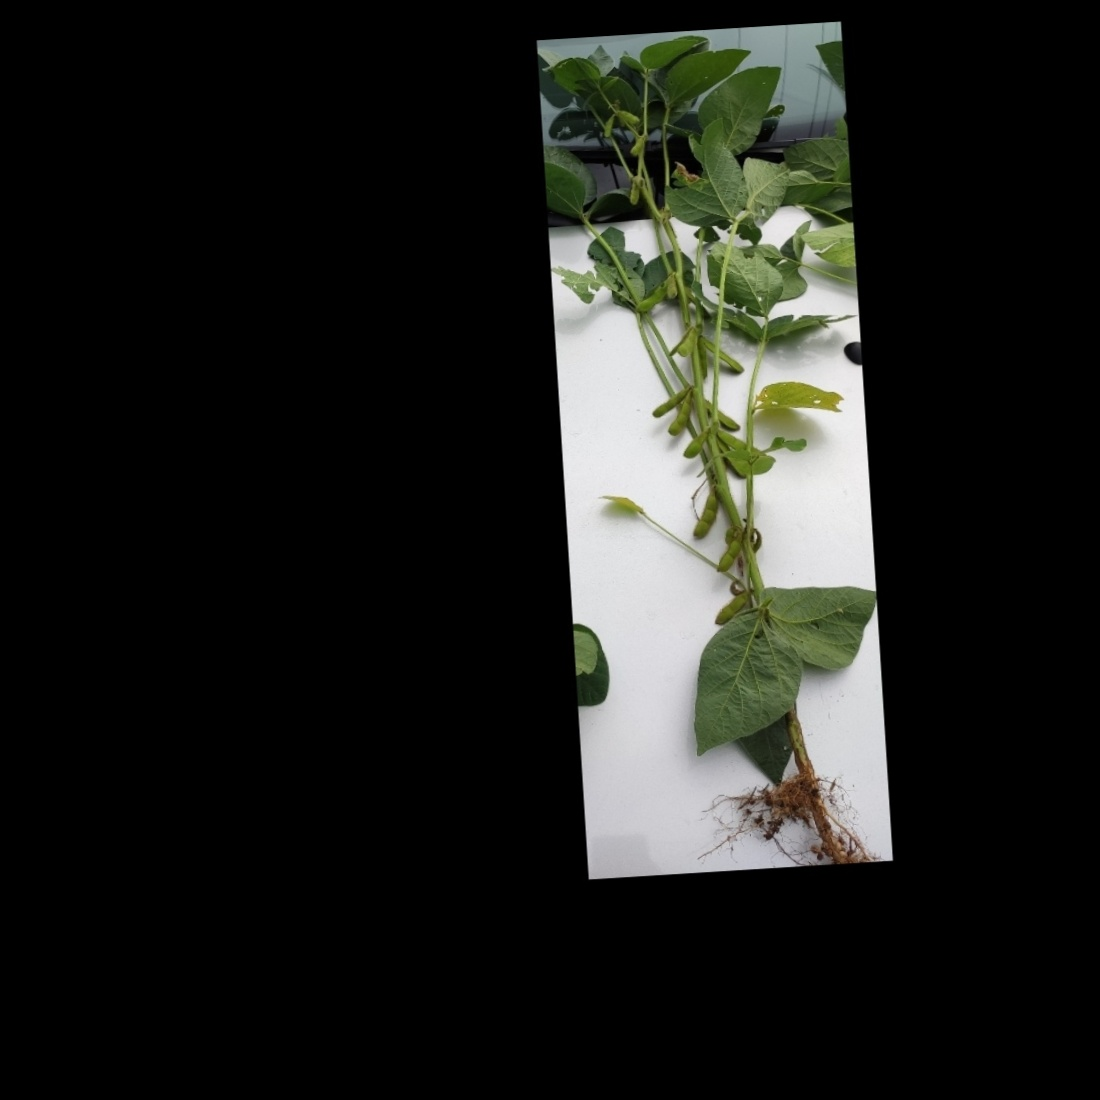pod: (698, 333, 747, 378), (686, 489, 722, 548), (701, 586, 753, 627), (645, 387, 690, 418), (712, 534, 743, 577), (656, 397, 688, 438), (634, 281, 669, 313), (675, 325, 706, 357), (625, 133, 649, 158), (625, 175, 643, 209), (598, 113, 617, 143), (613, 107, 642, 126), (664, 267, 679, 301)
soy: (550, 39, 883, 868)
